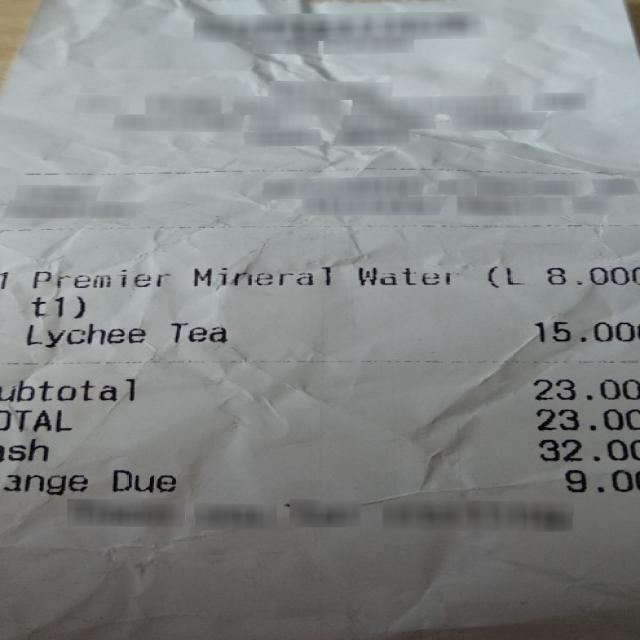text: (0, 376, 136, 402), (23, 321, 142, 348), (193, 265, 327, 286), (30, 267, 170, 287), (534, 407, 639, 432), (531, 377, 639, 401), (535, 438, 639, 462), (534, 319, 635, 342), (0, 470, 87, 496), (561, 468, 639, 492), (356, 266, 455, 284), (0, 405, 66, 432), (546, 265, 638, 284), (109, 468, 173, 492), (29, 293, 82, 318), (0, 436, 47, 462), (168, 321, 225, 342), (485, 266, 522, 286), (0, 270, 8, 290)
